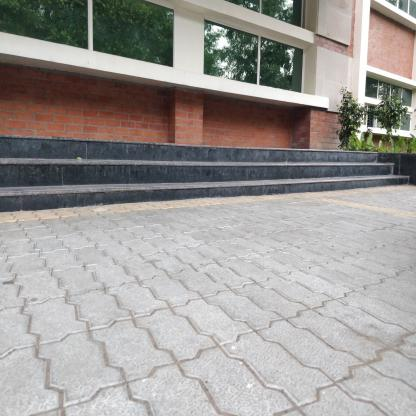stairs: (53, 153, 329, 218)
